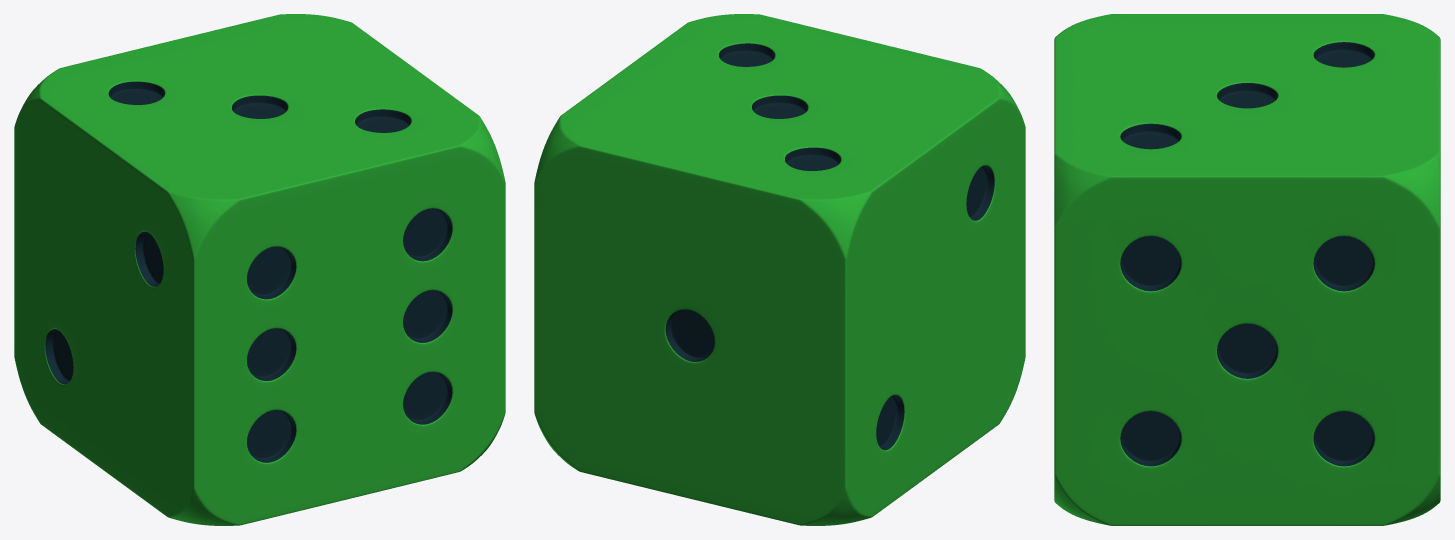
File: Dice_03.glb
3 views of the same model, side by side, from view 1: azimuth 30°, elevation 25°; view 2: azimuth 150°, elevation 25°; view 3: azimuth 270°, elevation 25° (orthographic). The views are drawn at different scales.
Parts seen in each view (by area): view 1: Cube.002; view 2: Cube.002; view 3: Cube.002.
Boxes of the visible parts, <box> form: Cube.002: <box>14,14,505,525</box>; Cube.002: <box>534,14,1025,525</box>; Cube.002: <box>1054,14,1440,525</box>.
Bounding box in the file's own units: 0.02 × 0.02 × 0.02.
